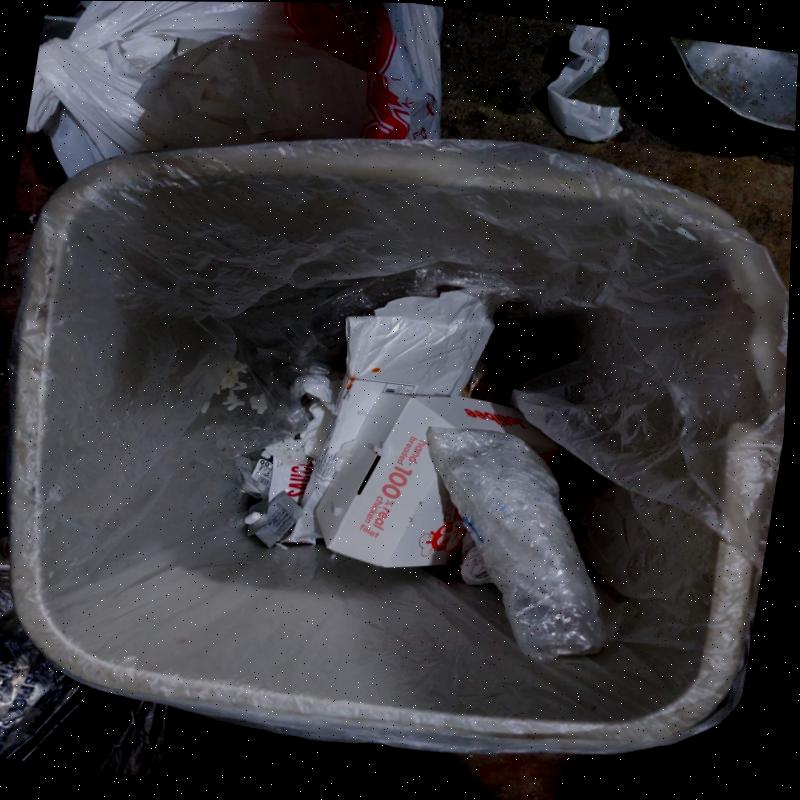cardboard: (316, 393, 562, 567)
paper: (290, 372, 342, 459), (461, 529, 494, 590)
plastic bag: (286, 289, 504, 543), (426, 426, 606, 660)
plastic sachet: (269, 456, 318, 503)
